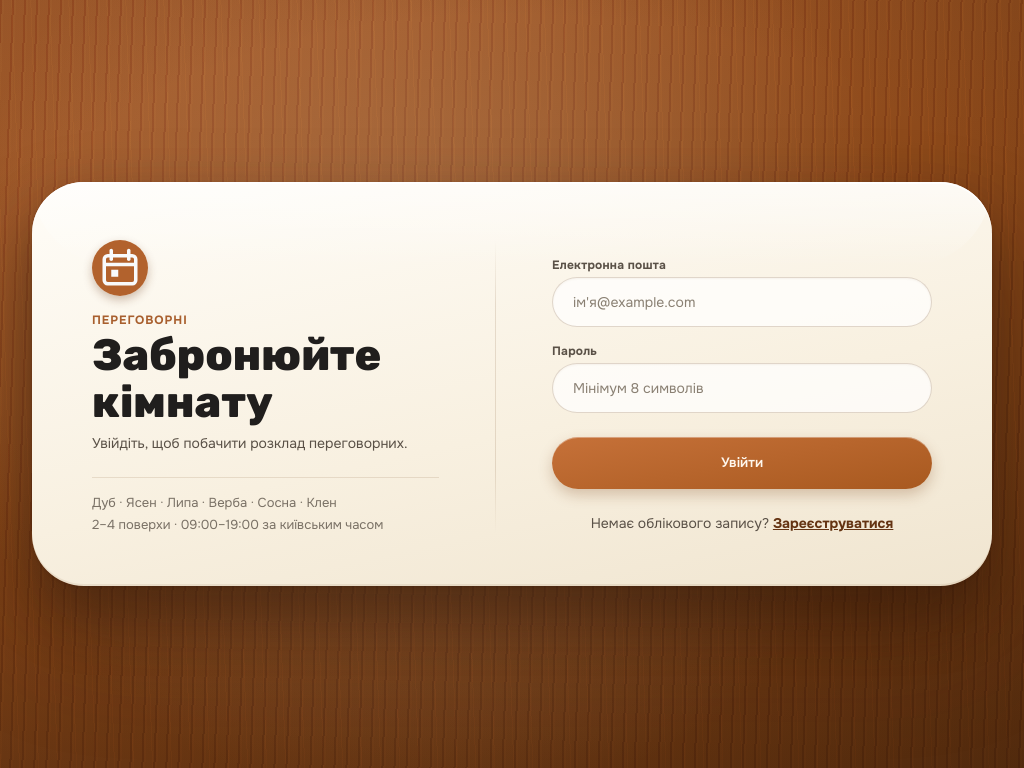
server-side errors › shows a 400 field error under the matching input and keeps the typed values
Type "ivan@example.com" into the field labelled "Електронна пошта".
click(742, 302); type("ivan@example.com")  # box [552, 277, 932, 327]
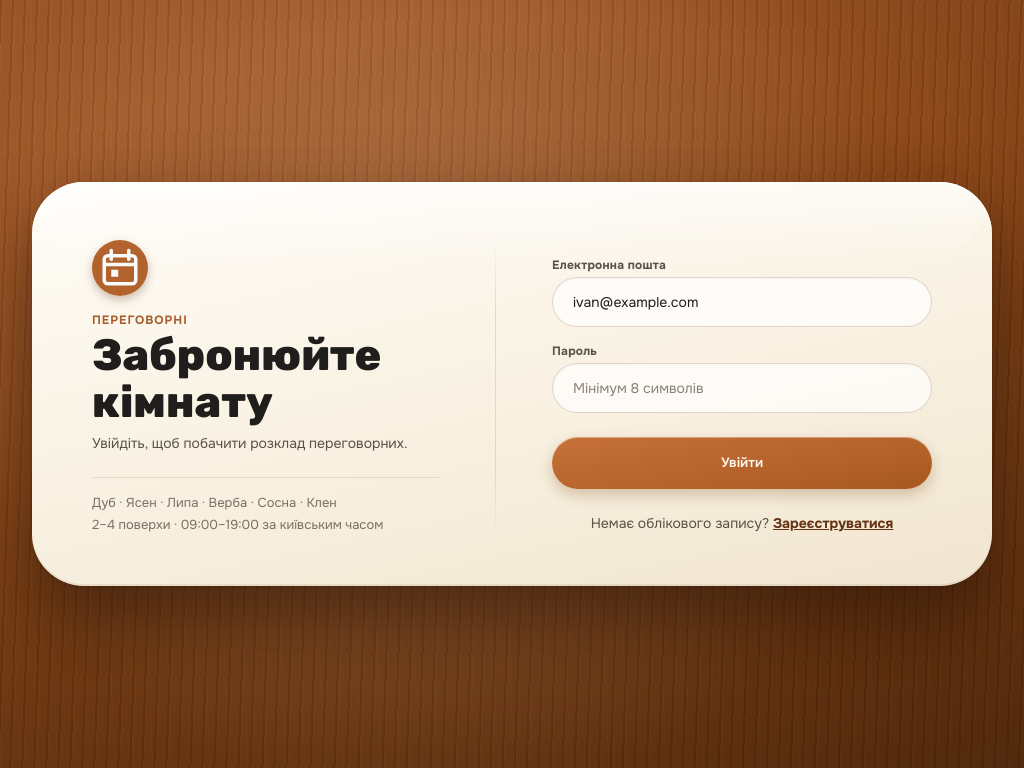
Type "super-secret" into the password field labelled "Пароль".
click(742, 388); type("super-secret")  # box [552, 363, 932, 413]
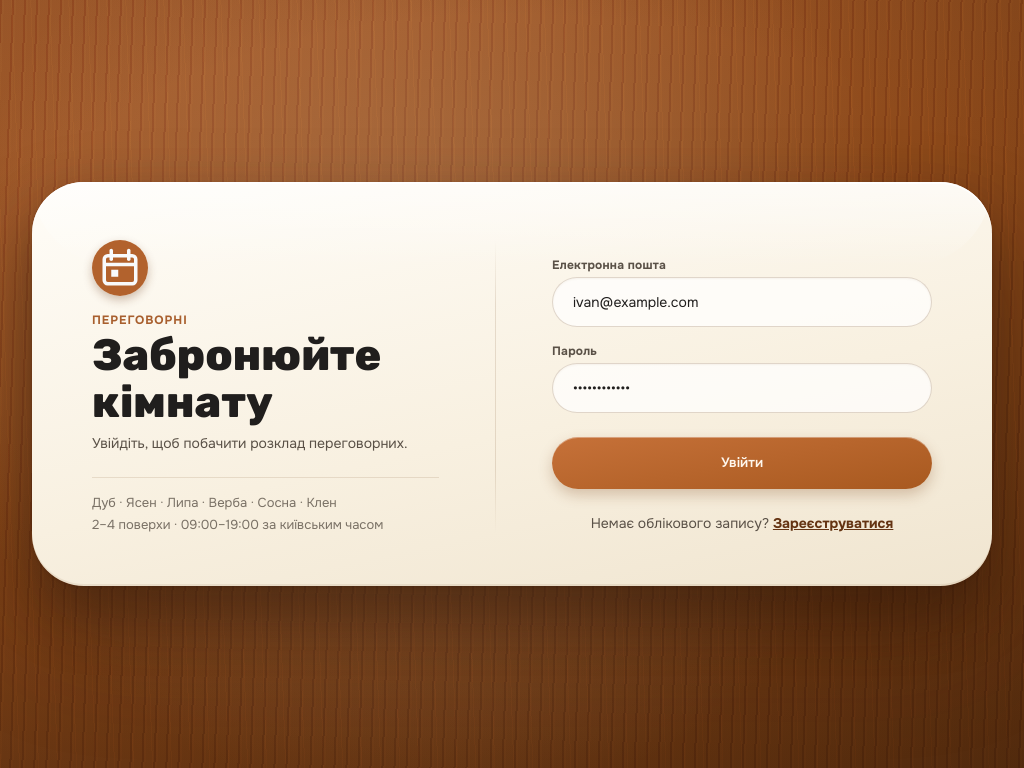
Click the button "Увійти".
click(742, 463)  # box [552, 437, 932, 489]
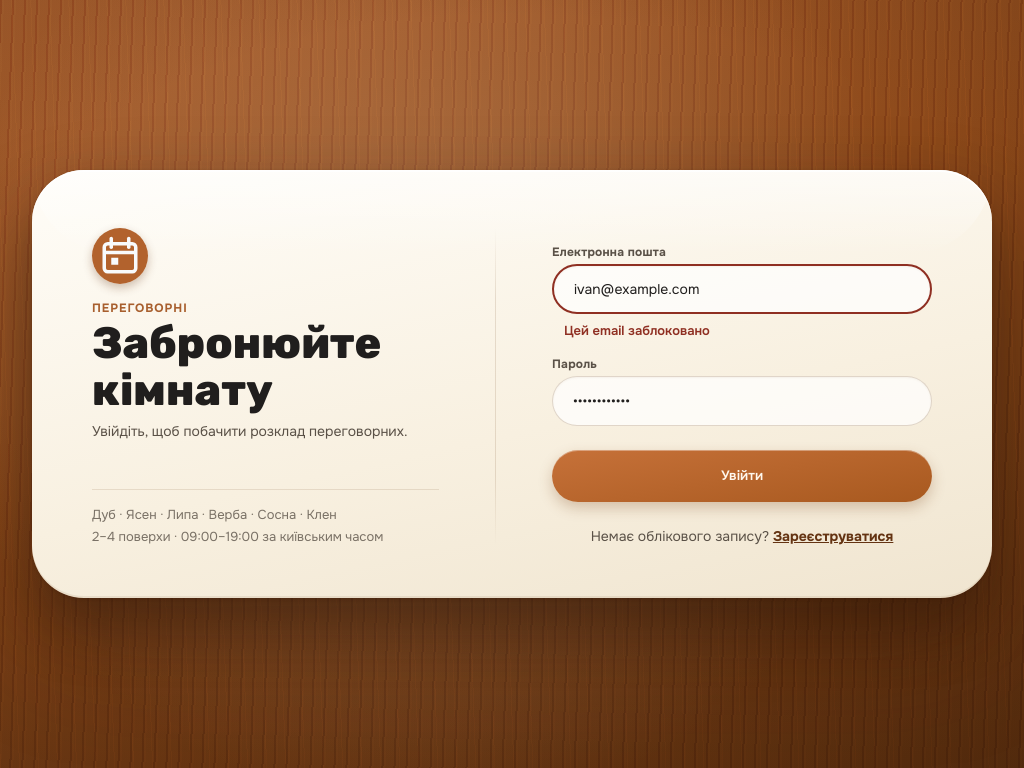
Expected: the message "Цей email заблоковано" is shown, [564, 322, 710, 339]
